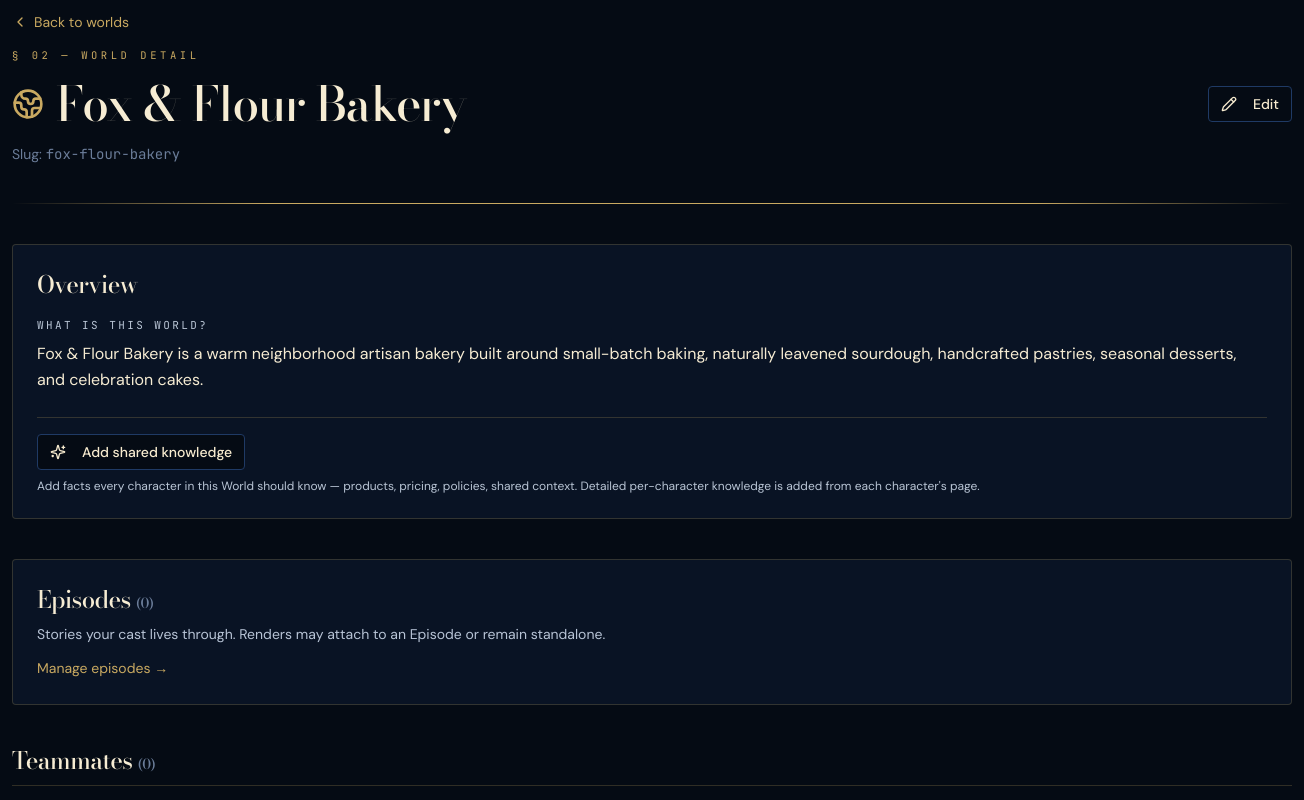
Test: World detail — SESSION 277 Slice 10 view/edit correction › clicking Edit reveals the three-field form and hides the Edit button
Click the button with test id "universe-edit-toggle".
click(1250, 104)  # box left=1208, top=86, right=1292, bottom=122
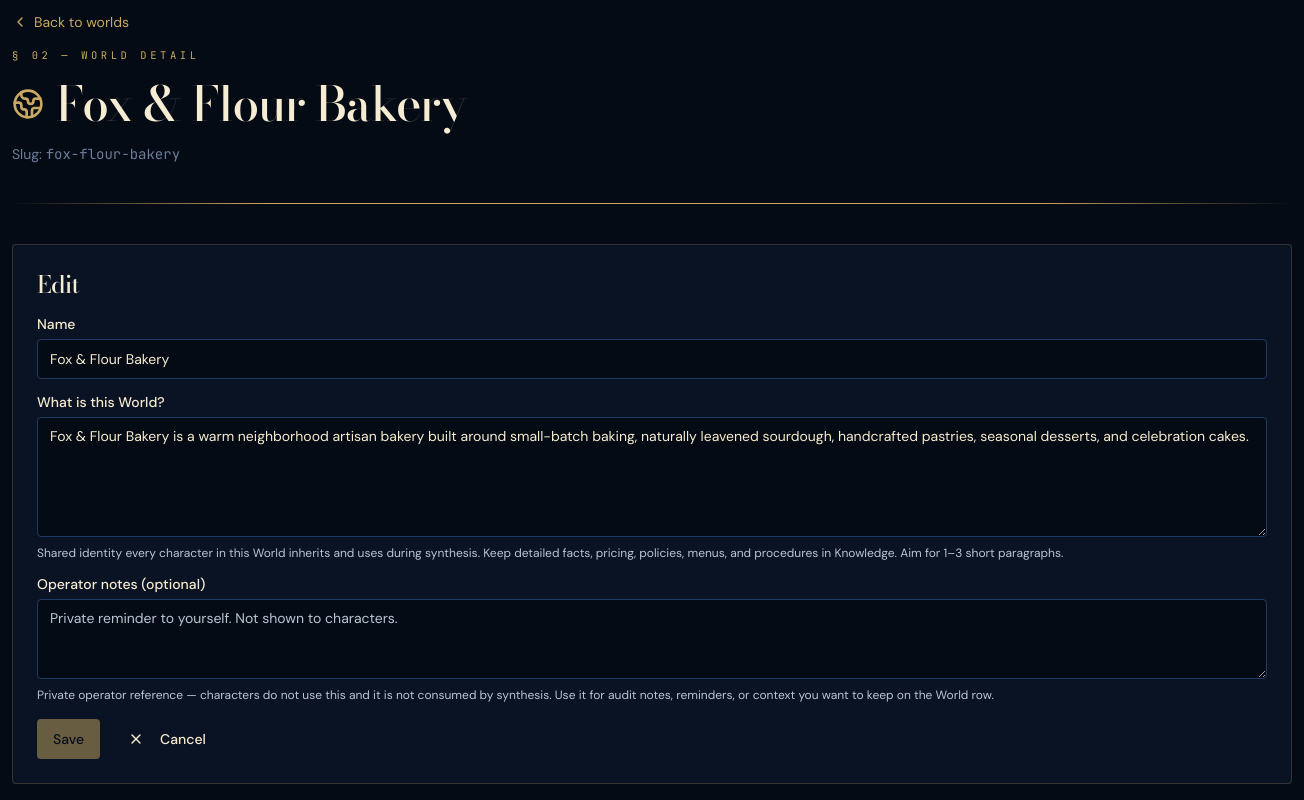
Expected: the element with test id "universe-edit" is shown
Expected: the element with test id "universe-overview" is gone
Expected: the field with test id "universe-name" is shown, left=37, top=339, right=1267, bottom=379
